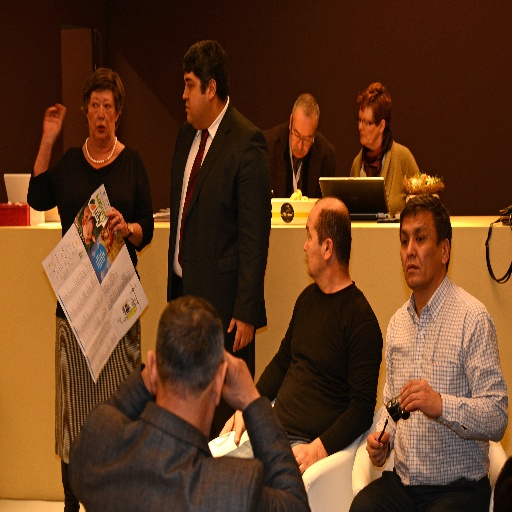hand: (220, 356, 259, 424), (397, 376, 438, 418), (217, 409, 246, 447), (228, 315, 256, 353), (364, 428, 389, 465), (43, 102, 65, 139), (105, 204, 128, 238), (291, 443, 315, 474)
